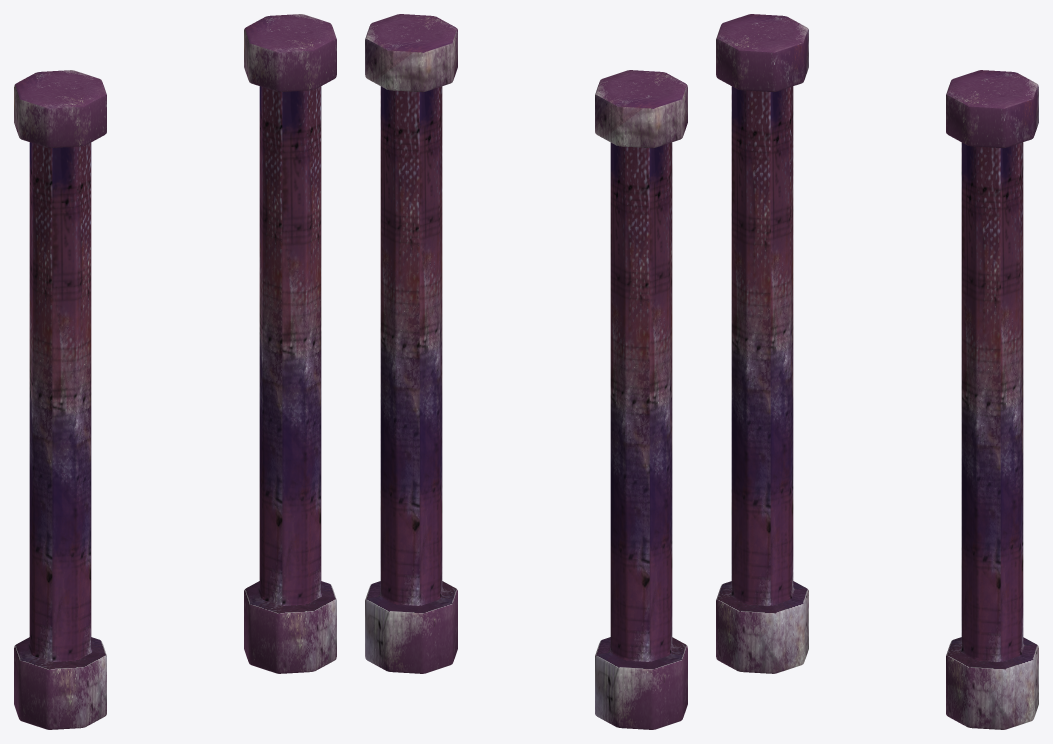
The model's file is MANOR_WINDOW-PILLAR_1_001.obj.
The picture shows the model from 3 angles, left to right: view 1: azimuth 30°, elevation 25°; view 2: azimuth 150°, elevation 25°; view 3: azimuth 330°, elevation 25°; orthographic projection.
Parts seen in each view (by area): view 1: MANOR_WINDOW-PILLAR_1_001; view 2: MANOR_WINDOW-PILLAR_1_001; view 3: MANOR_WINDOW-PILLAR_1_001.
Boxes of the visible parts, x1,y1,x2,y2 form: MANOR_WINDOW-PILLAR_1_001: [14, 14, 336, 729]; MANOR_WINDOW-PILLAR_1_001: [365, 14, 687, 729]; MANOR_WINDOW-PILLAR_1_001: [716, 14, 1038, 729].
Size of the model in its own units: 1.57 by 3 by 0.4135.
